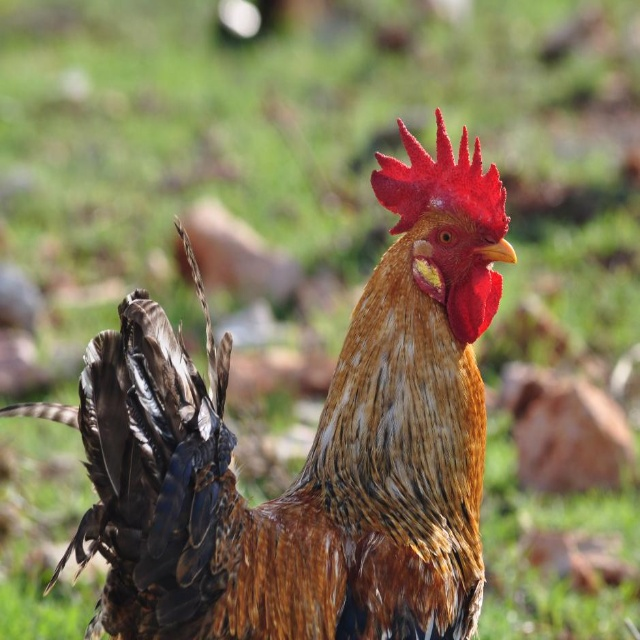Chicken: (0, 109, 526, 640)
